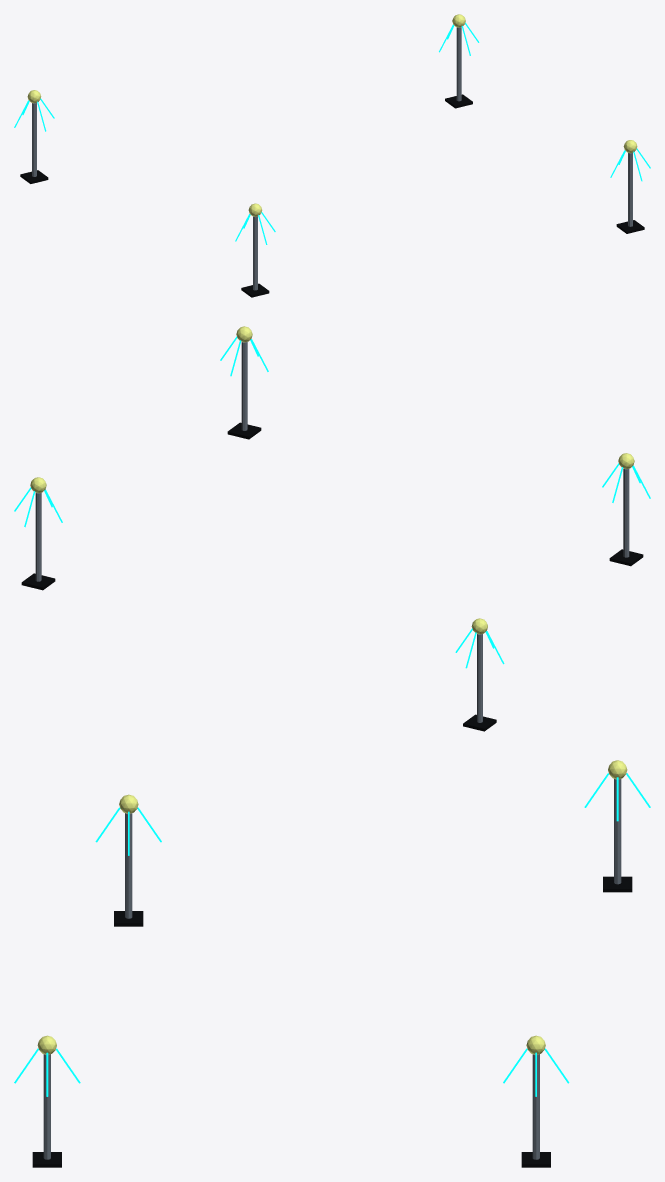
File: tt_leisure_splash_sprays.glb
The picture shows the model from 3 angles, top to bottom: view 1: azimuth 30°, elevation 25°; view 2: azimuth 150°, elevation 25°; view 3: azimuth 270°, elevation 25°; orthographic projection. The views are drawn at different scales.
Parts seen in each view (by area): view 1: Spray_Stem, Spray_Foot, Spray_OpaqueStream, Spray_Crown; view 2: Spray_Stem, Spray_Foot, Spray_OpaqueStream, Spray_Crown; view 3: Spray_Stem, Spray_Foot, Spray_OpaqueStream, Spray_Crown.
Boxes of the visible parts, x1,y1,x2,y2 form: Spray_Stem: [32, 27, 632, 290]; Spray_Foot: [20, 94, 644, 297]; Spray_OpaqueStream: [14, 22, 650, 244]; Spray_Crown: [27, 14, 637, 216]; Spray_Stem: [35, 342, 629, 722]; Spray_Foot: [21, 422, 643, 731]; Spray_OpaqueStream: [14, 336, 650, 668]; Spray_Crown: [30, 326, 634, 634]; Spray_Stem: [43, 778, 621, 1159]; Spray_Foot: [32, 876, 632, 1167]; Spray_OpaqueStream: [14, 773, 650, 1096]; Spray_Crown: [37, 760, 627, 1054].
Size of what is drawn, in the model's own units: 8.82 by 1.7 by 7.82.
Materials: 4 (2 with a texture image).
